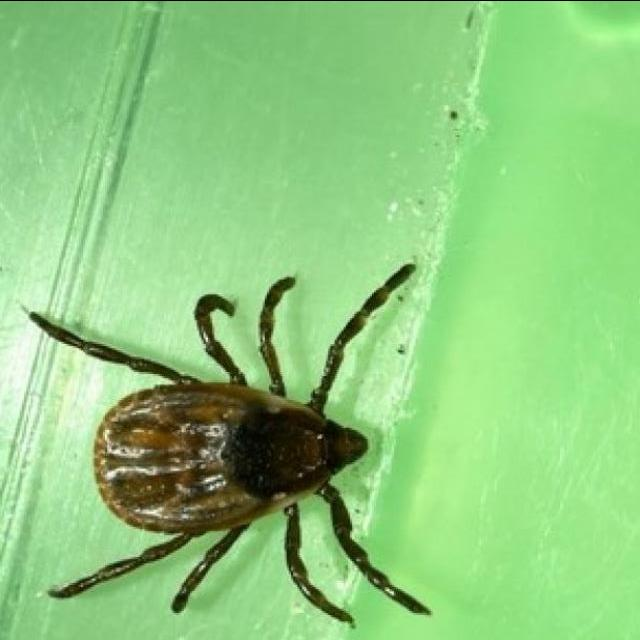Rhipicephalus Sanguineus-F: (26, 263, 433, 627)
